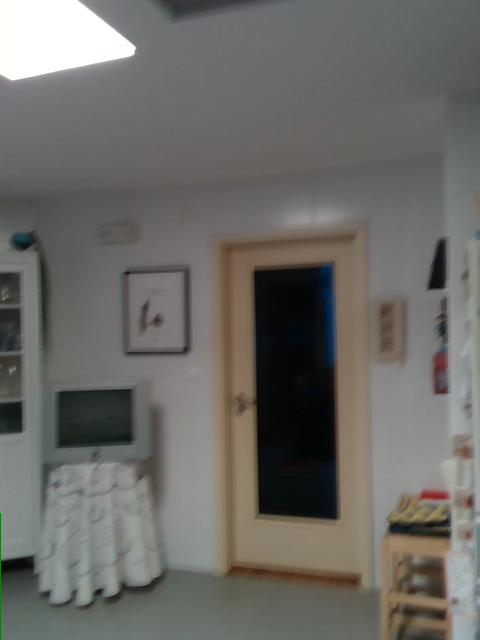door: (212, 217, 370, 588)
